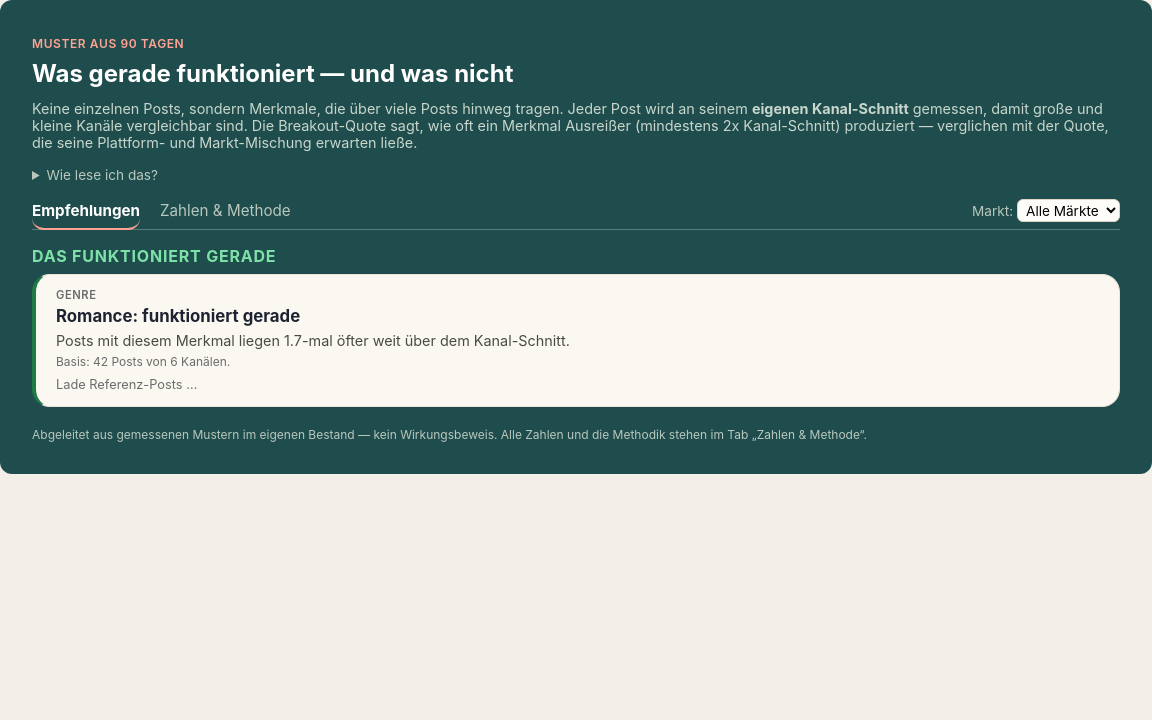
Test: PatternsBlock — Flag-Gate und Bericht › zeigt in der aufgeklappten Zeile eine Leer-Meldung, wenn Beispiele fehlschlagen
The image size is (1152, 720).
Click the button "Zahlen & Methode". click: (225, 215)
box: [160,201,291,230]
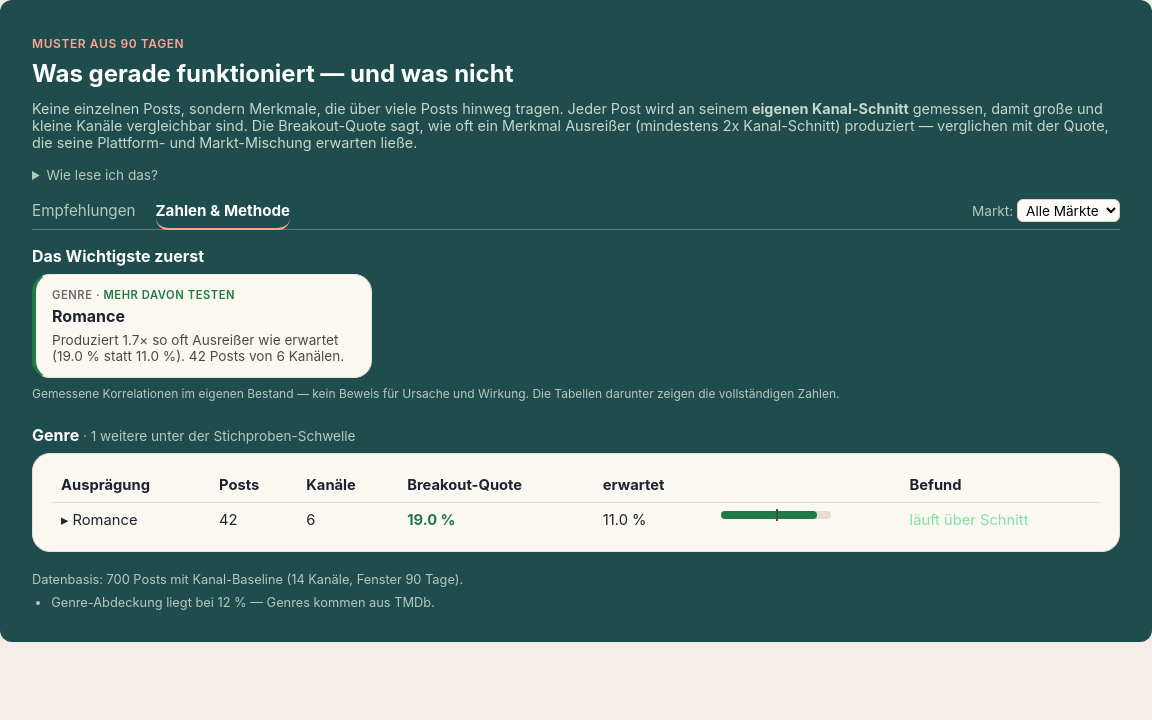
Click the text "▸ Romance". click: (130, 520)
box: [51,503,209,537]
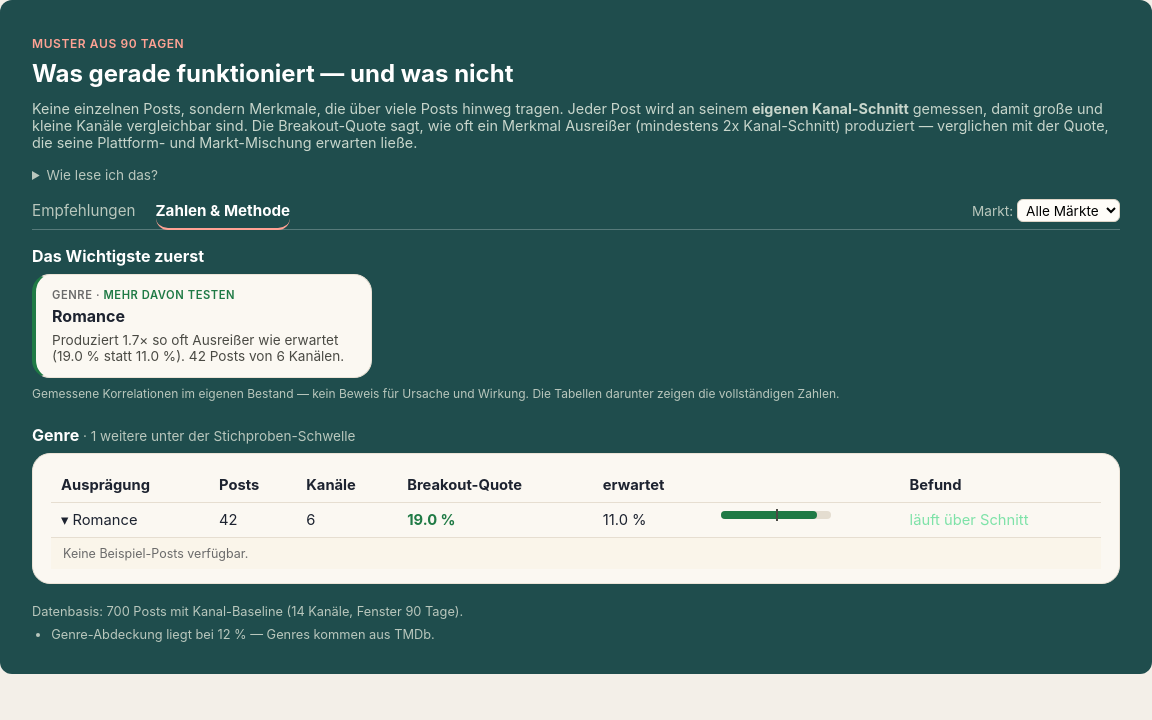
Now the text "Keine Beispiel-Posts verfügbar." is shown, box [63,546,248,561]
